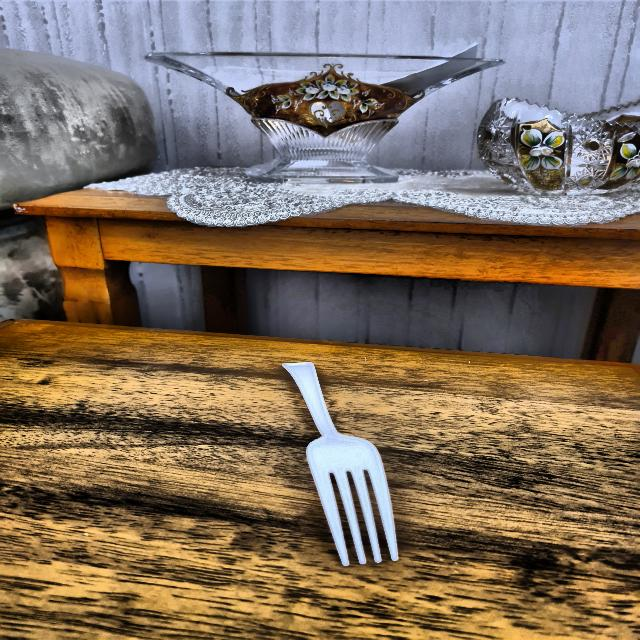plastic utensil: (269, 359, 406, 566)
